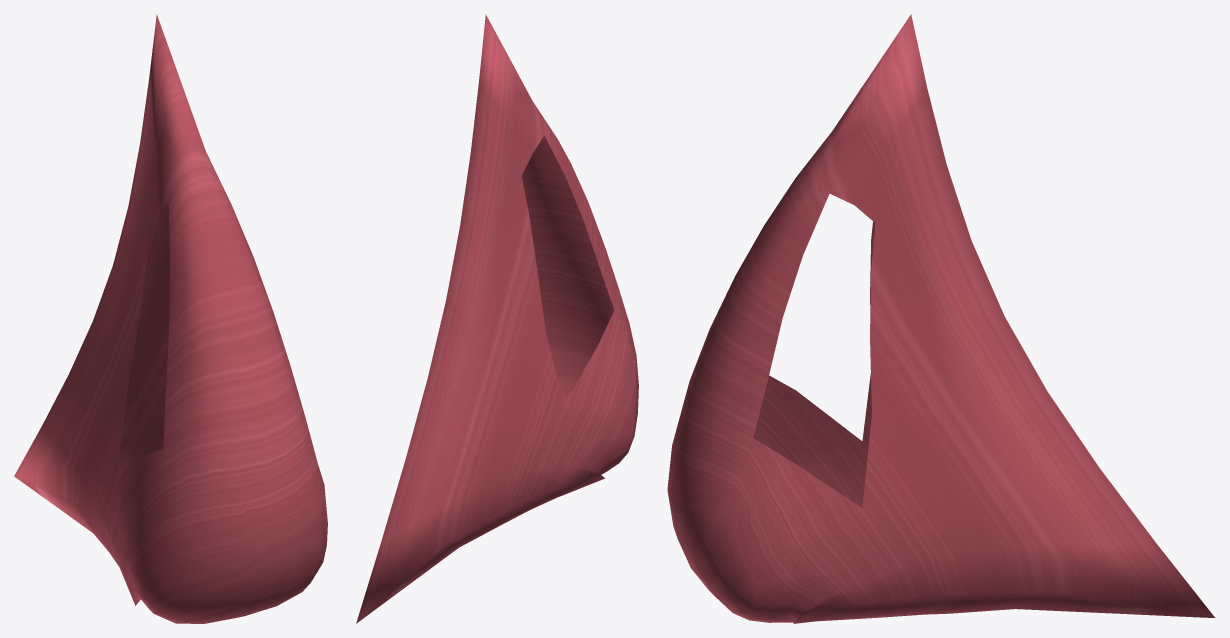
The model's file is Klitoris.glb.
3 renders of one model, left to right at view 1: azimuth 30°, elevation 25°; view 2: azimuth 150°, elevation 25°; view 3: azimuth 270°, elevation 25°, orthographic. The views are drawn at different scales.
Visible parts, largest first — view 1: Klitoris; view 2: Klitoris; view 3: Klitoris.
Boxes of the visible parts, x1,y1,x2,y2 form: Klitoris: [14, 14, 327, 623]; Klitoris: [356, 14, 638, 623]; Klitoris: [667, 14, 1215, 623].
Bounding box in the file's own units: 0.0525 × 0.159 × 0.1307.
Materials: 1 (1 with a texture image).
